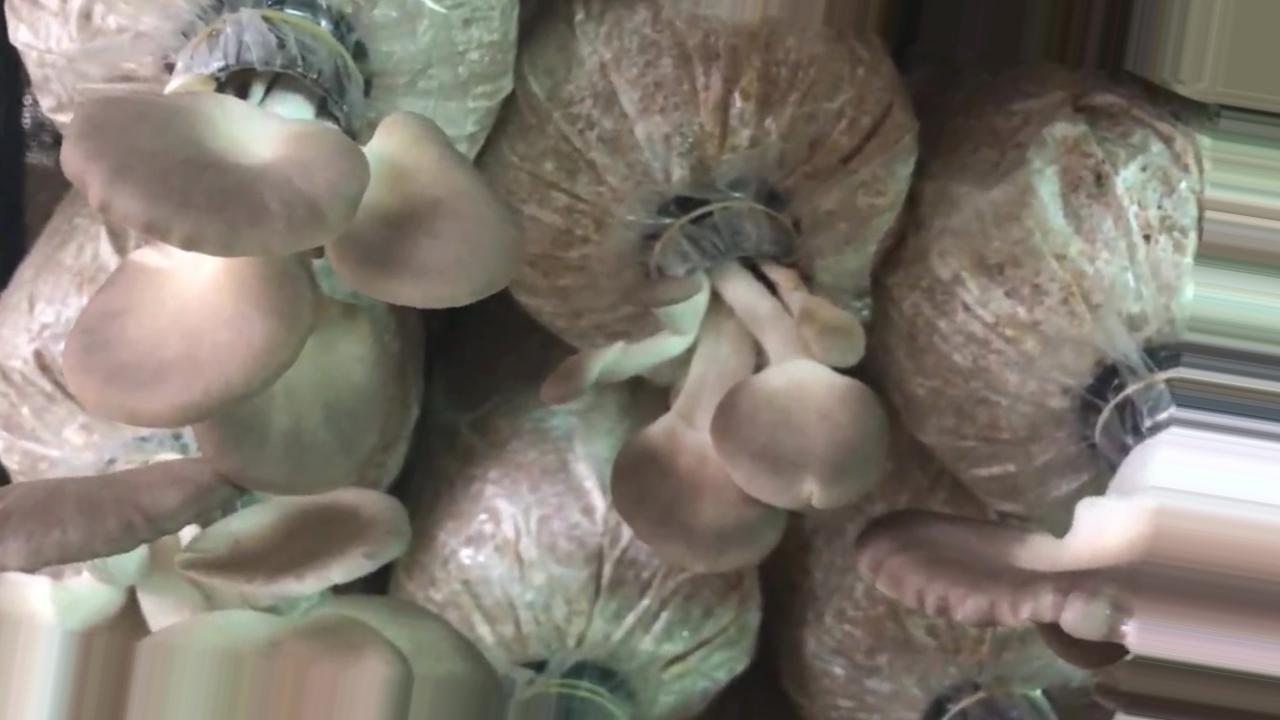nam: (55, 2, 524, 496), (535, 184, 895, 577), (1, 463, 500, 689), (870, 500, 1156, 638)
